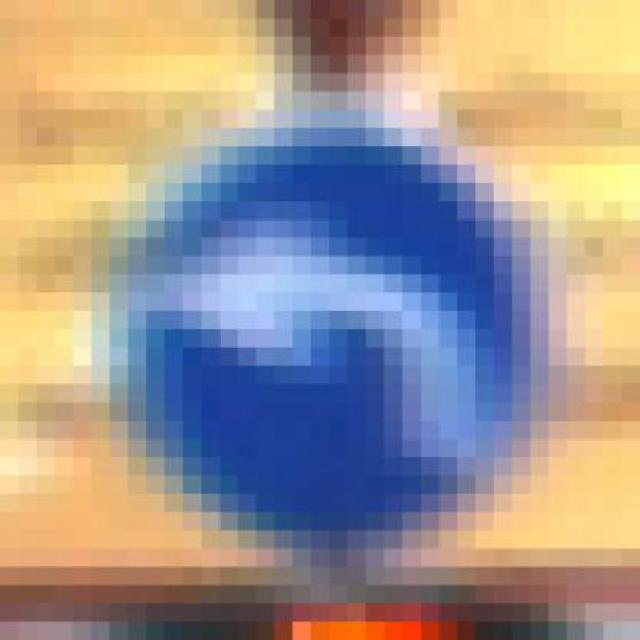Turn left ahead: (91, 110, 604, 548)
